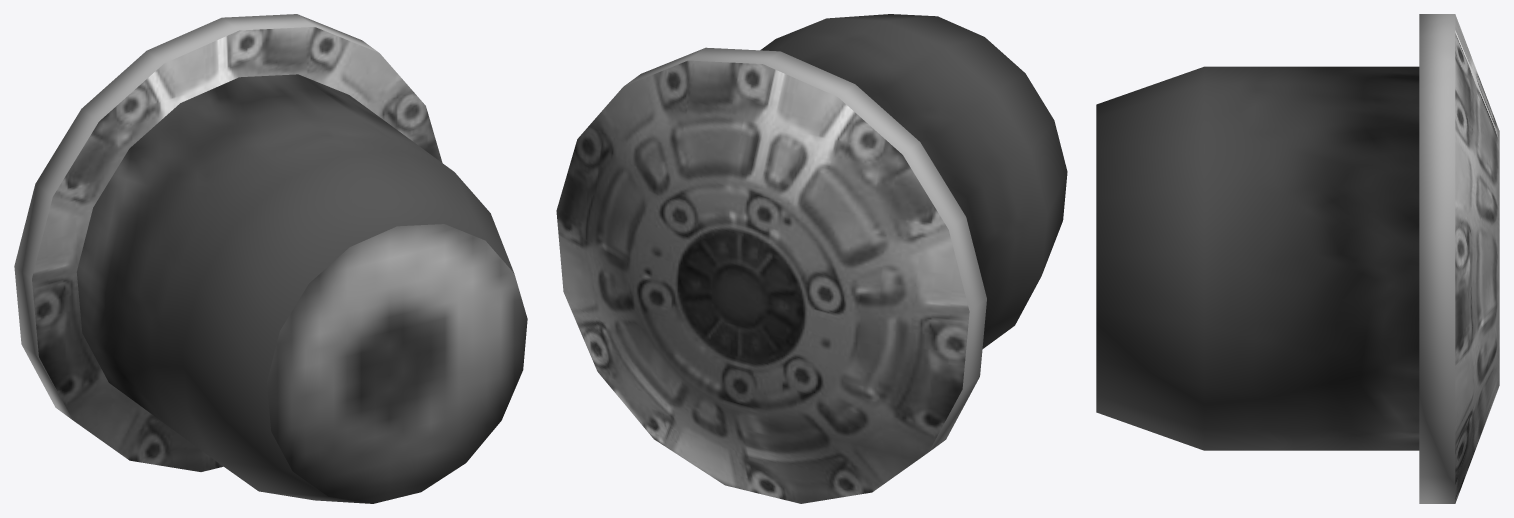
The model's file is middle_left_wheel_109.dae.
The picture shows the model from 3 angles, left to right: view 1: azimuth 30°, elevation 25°; view 2: azimuth 150°, elevation 25°; view 3: azimuth 270°, elevation 25°; orthographic projection. The views are drawn at different scales.
Parts seen in each view (by area): view 1: node; view 2: node; view 3: node.
Boxes of the visible parts, x1,y1,x2,y2 form: node: (14, 14, 527, 503); node: (556, 14, 1067, 503); node: (1096, 14, 1499, 503).
Bounding box in the file's own units: 0.1774 × 0.1458 × 0.1766.
Materials: 1 (1 with a texture image).
